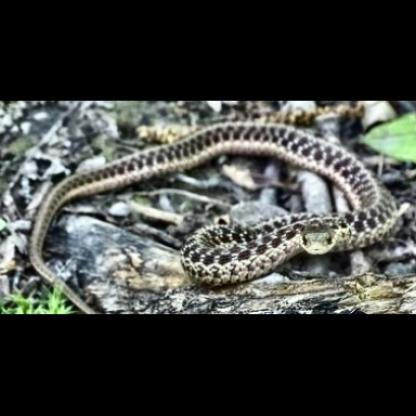Snake: (22, 120, 402, 296)
